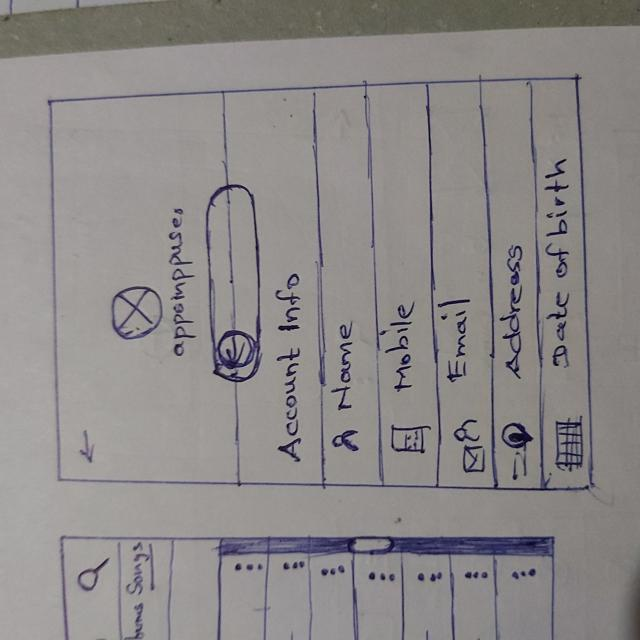BackButton: (75, 429, 100, 466)
CardView: (202, 183, 266, 384)
EditText: (365, 88, 438, 484), (434, 83, 498, 488), (317, 86, 381, 485), (487, 83, 541, 489), (541, 82, 587, 488)
Icon: (500, 422, 534, 479), (453, 419, 486, 477), (555, 419, 584, 473), (390, 424, 429, 456), (219, 333, 253, 368), (330, 428, 362, 453)
MainLayout: (46, 78, 596, 495)
RoundedImage: (111, 286, 163, 342)
TextView: (275, 273, 307, 458), (167, 206, 193, 359)
